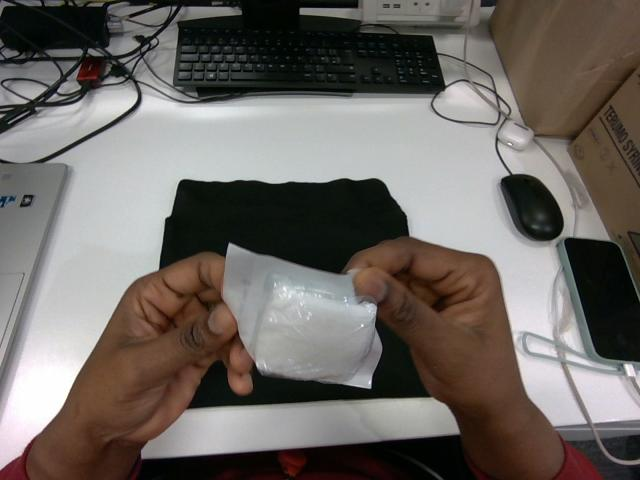gauze: (223, 244, 381, 387)
